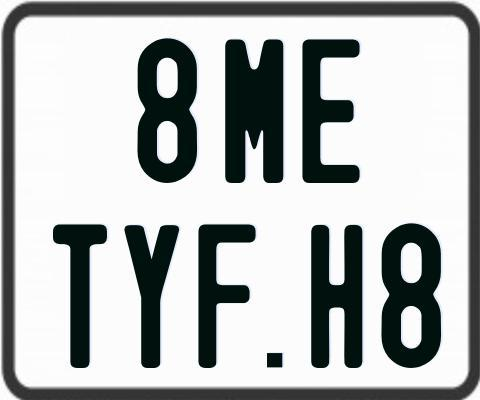8: (136, 36, 199, 185), (379, 221, 442, 369)
E: (300, 38, 358, 187)
F: (198, 223, 257, 373)
H: (311, 224, 362, 367)
M: (225, 38, 288, 187)
T: (50, 223, 109, 372)
Y: (122, 224, 177, 373)
